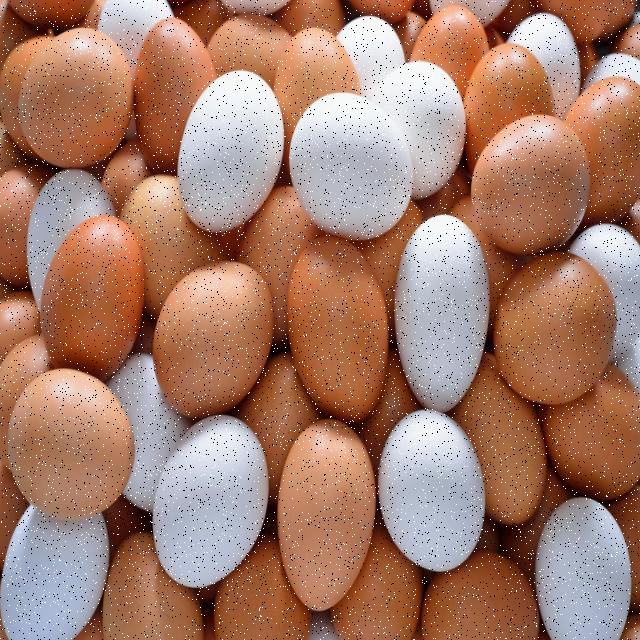Egg: (290, 62, 409, 245), (30, 220, 160, 384), (153, 422, 271, 596), (15, 7, 136, 172), (378, 418, 494, 580), (278, 424, 374, 616), (155, 258, 269, 414), (182, 61, 284, 234), (13, 358, 129, 510), (462, 113, 600, 240), (285, 247, 388, 414), (0, 495, 110, 640), (391, 236, 482, 409), (491, 272, 624, 389)
